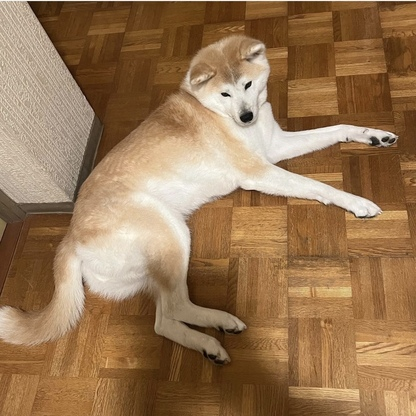akita: (1, 29, 404, 370)
